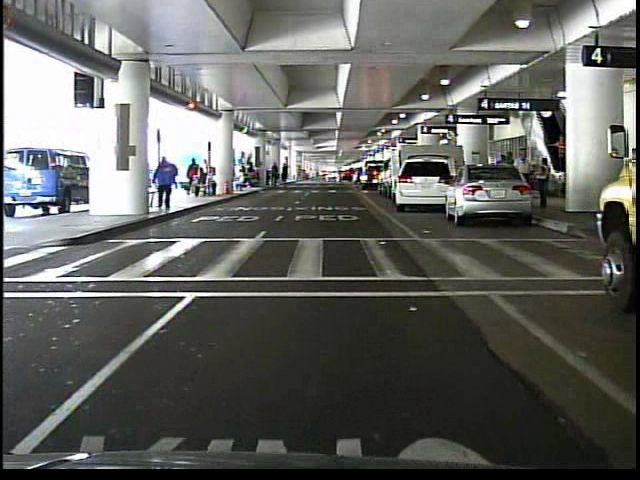person: (151, 154, 179, 211)
